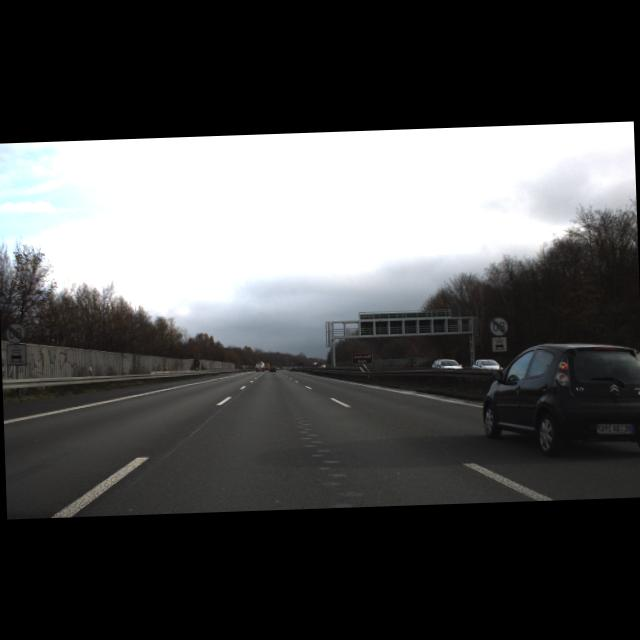other: (4, 322, 27, 344), (488, 316, 508, 336)
